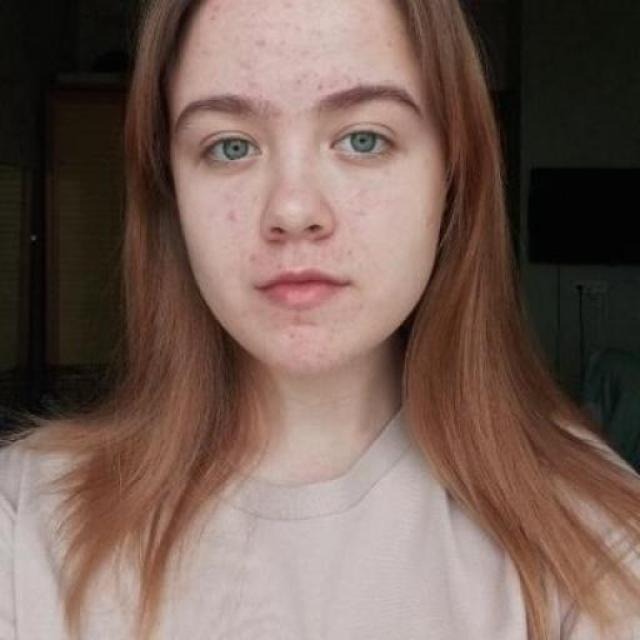Acne: (230, 9, 360, 106), (224, 185, 262, 278)
